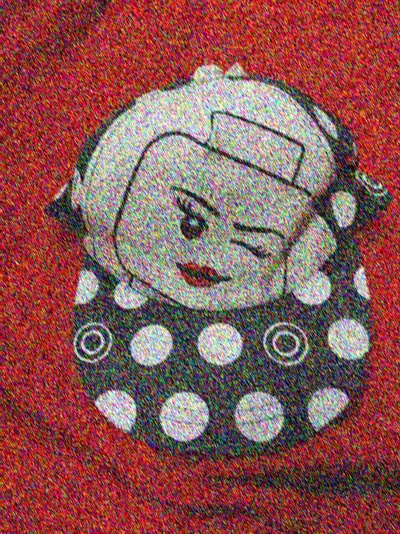Hat: (30, 53, 394, 479)
